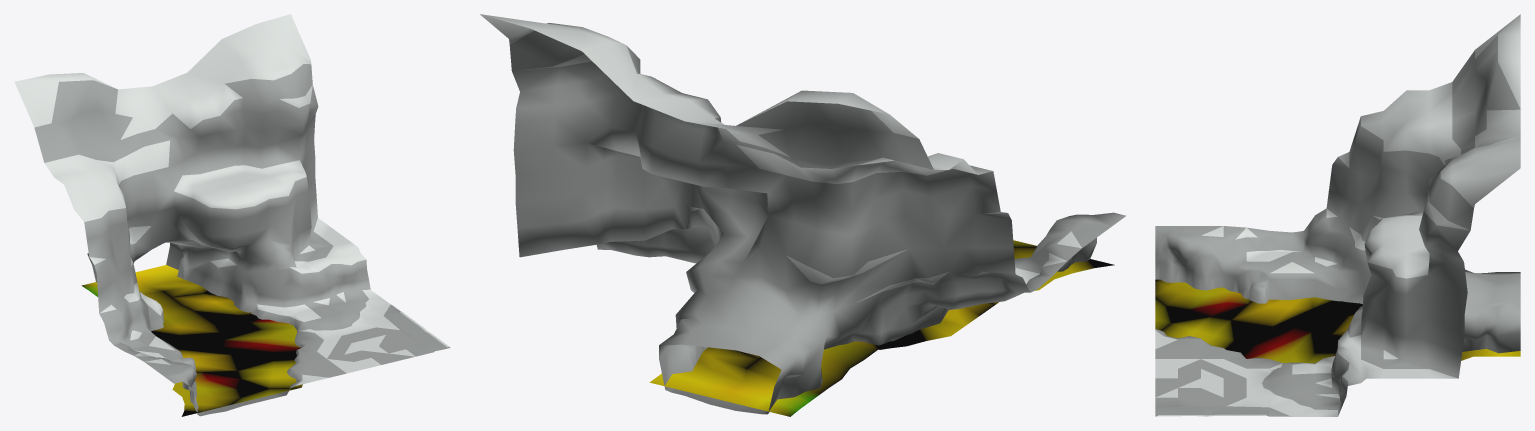
3 views of the same model, side by side, from view 1: azimuth 30°, elevation 25°; view 2: azimuth 150°, elevation 25°; view 3: azimuth 270°, elevation 25° (orthographic). The views are drawn at different scales.
Parts seen in each view (by area): view 1: G:\FFXIV-MapTools\exports\f1t2\bg\ffxiv\fst_f1\twn\f1t2\bgpl (×10); view 2: G:\FFXIV-MapTools\exports\f1t2\bg\ffxiv\fst_f1\twn\f1t2\bgpl (×9); view 3: G:\FFXIV-MapTools\exports\f1t2\bg\ffxiv\fst_f1\twn\f1t2\bgpl (×10).
Part boxes in pixels (bbox=[...]): G:\FFXIV-MapTools\exports\f1t2\bg\ffxiv\fst_f1\twn\f1t2\bgpl (×10): bbox=[14, 14, 450, 416]; G:\FFXIV-MapTools\exports\f1t2\bg\ffxiv\fst_f1\twn\f1t2\bgpl (×9): bbox=[480, 14, 1126, 416]; G:\FFXIV-MapTools\exports\f1t2\bg\ffxiv\fst_f1\twn\f1t2\bgpl (×10): bbox=[1155, 14, 1520, 416].
Size of the model in its own units: 64 by 50.07 by 64.
